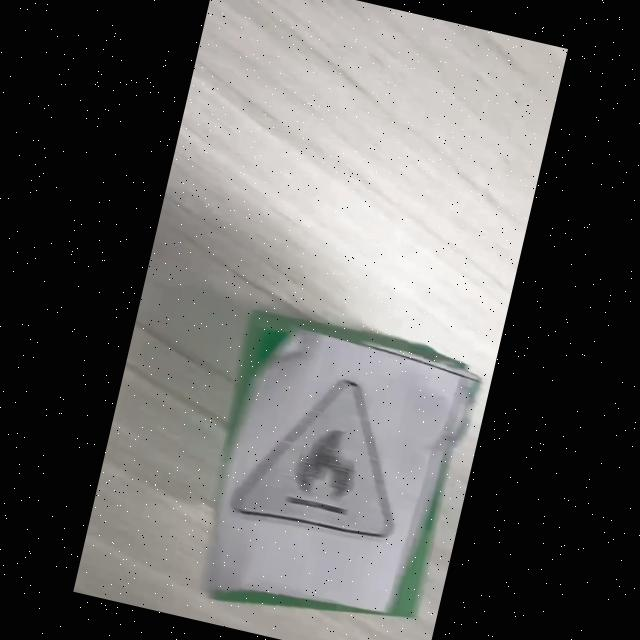Fire: (231, 378, 394, 539)
